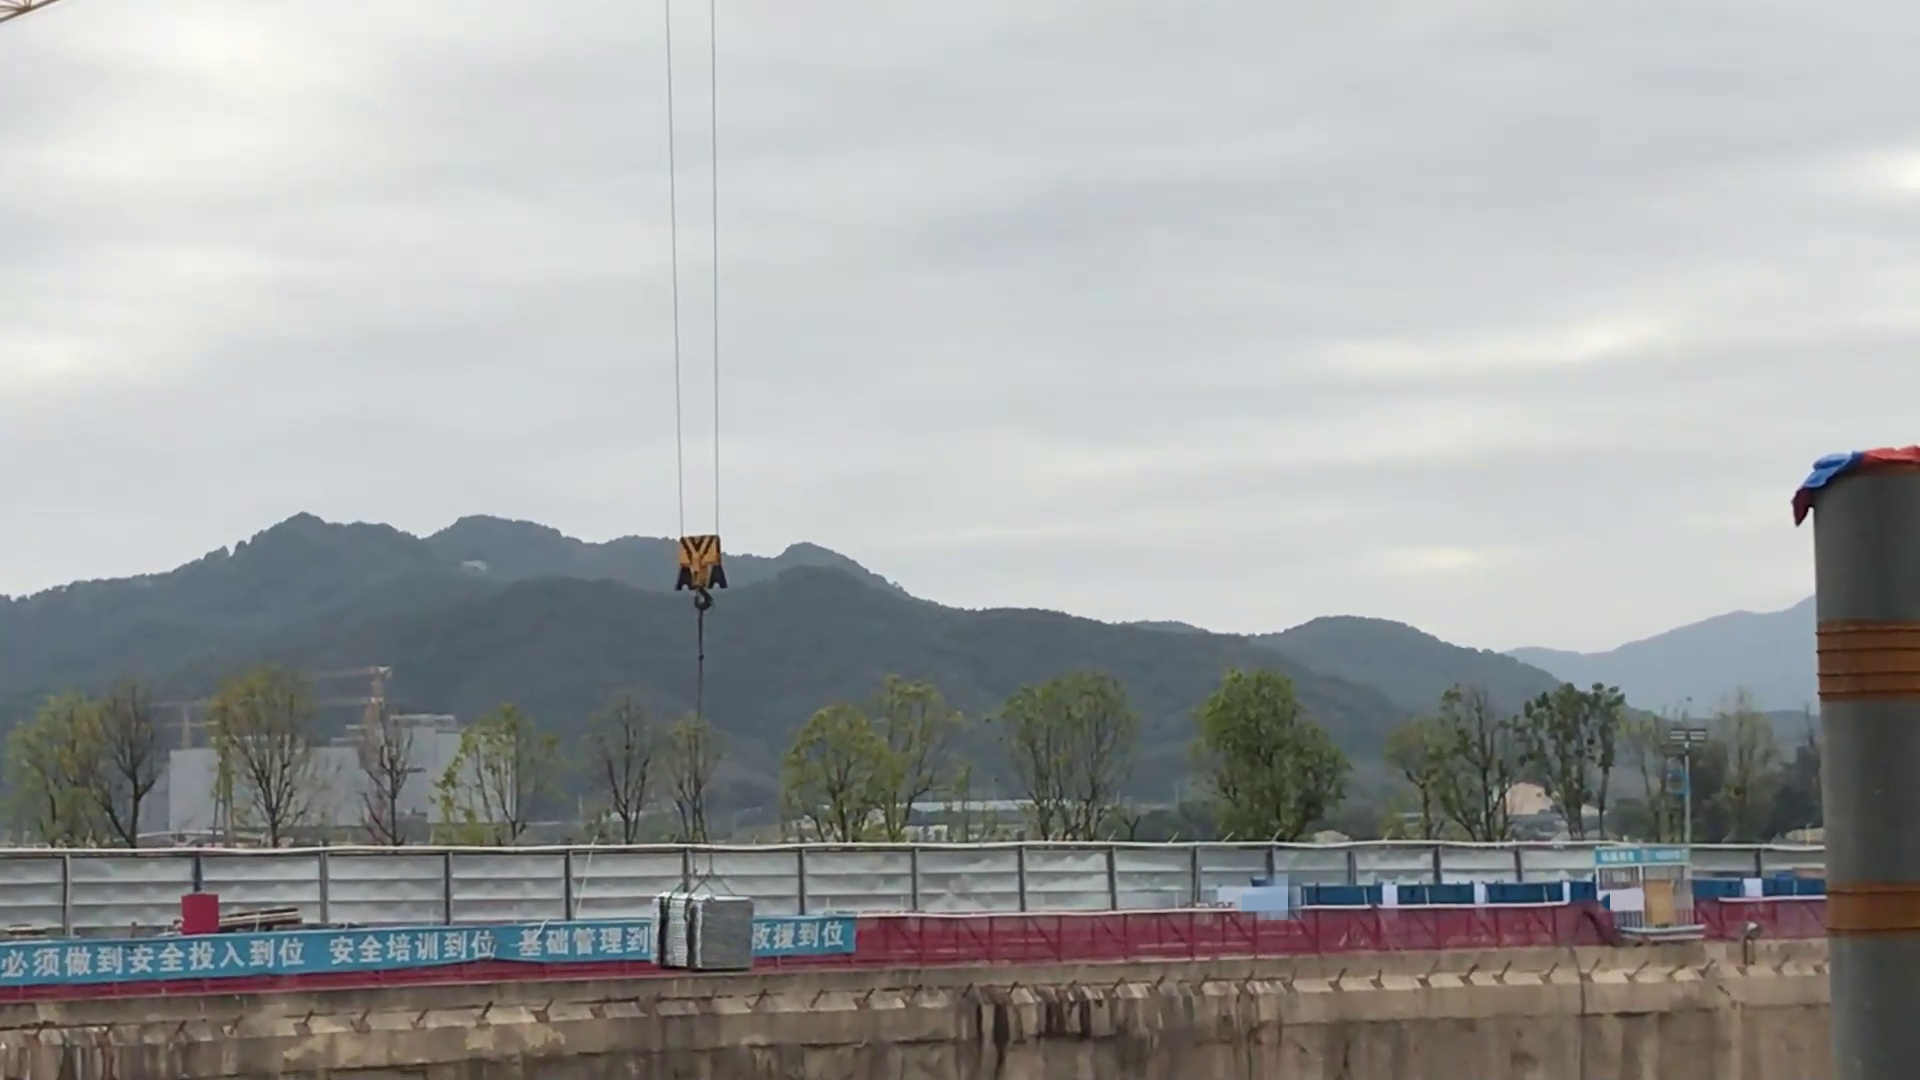fence: (4, 894, 1882, 1000)
hook: (663, 517, 729, 607)
scaffold: (645, 889, 762, 975)
slogan: (7, 911, 855, 978)
